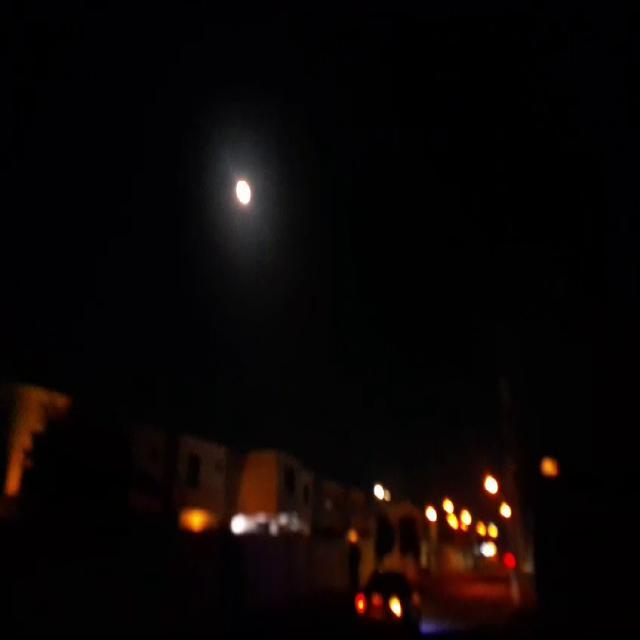moon: (231, 177, 251, 211)
